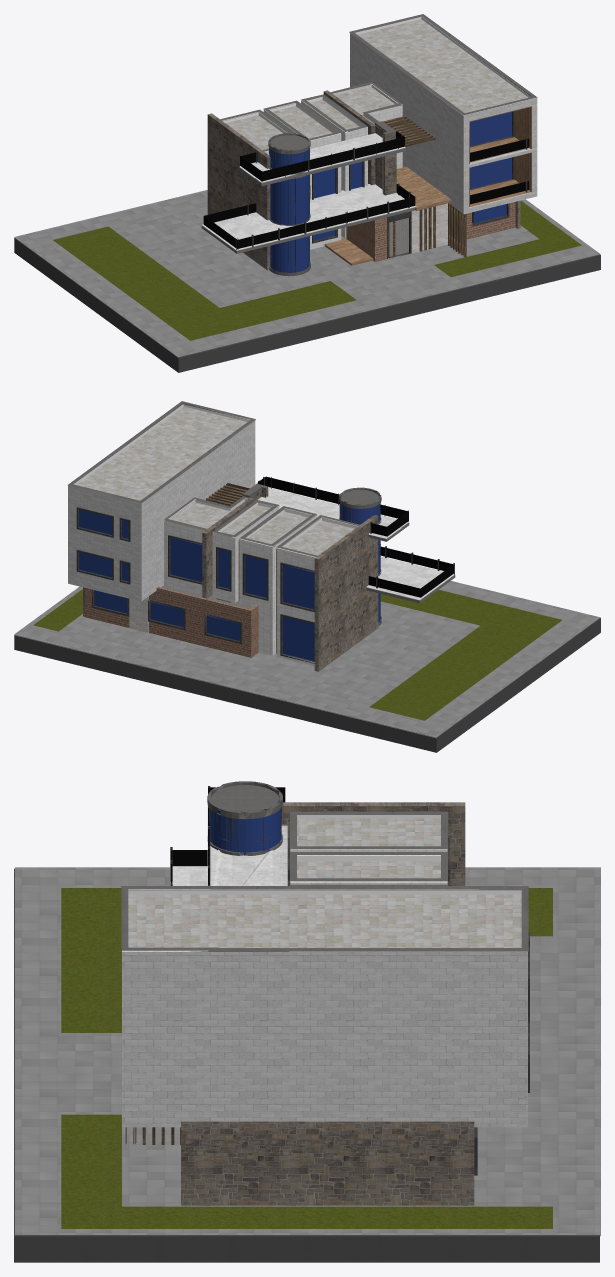
3 renders of one model, top to bottom at view 1: azimuth 30°, elevation 25°; view 2: azimuth 150°, elevation 25°; view 3: azimuth 270°, elevation 25°, orthographic. The views are drawn at different scales.
Size of the model in its own units: 30.4 by 10.91 by 20.51.
Materials: 23 (18 with a texture image).
